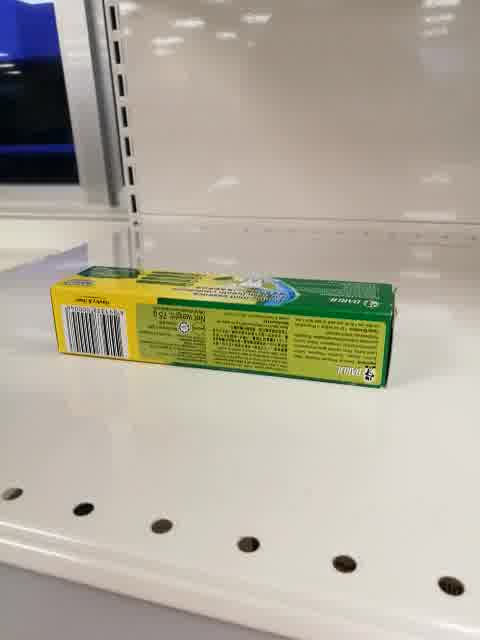toothpaste: (50, 264, 398, 390)
